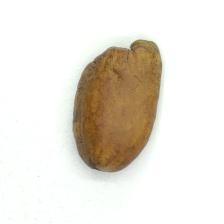NG: (89, 40, 162, 77)
